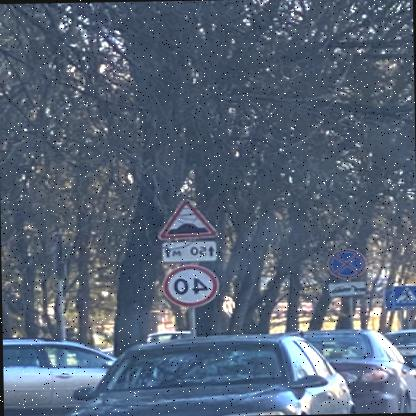crosswalk: (392, 283, 415, 308)
speedlimit: (166, 264, 222, 305)
